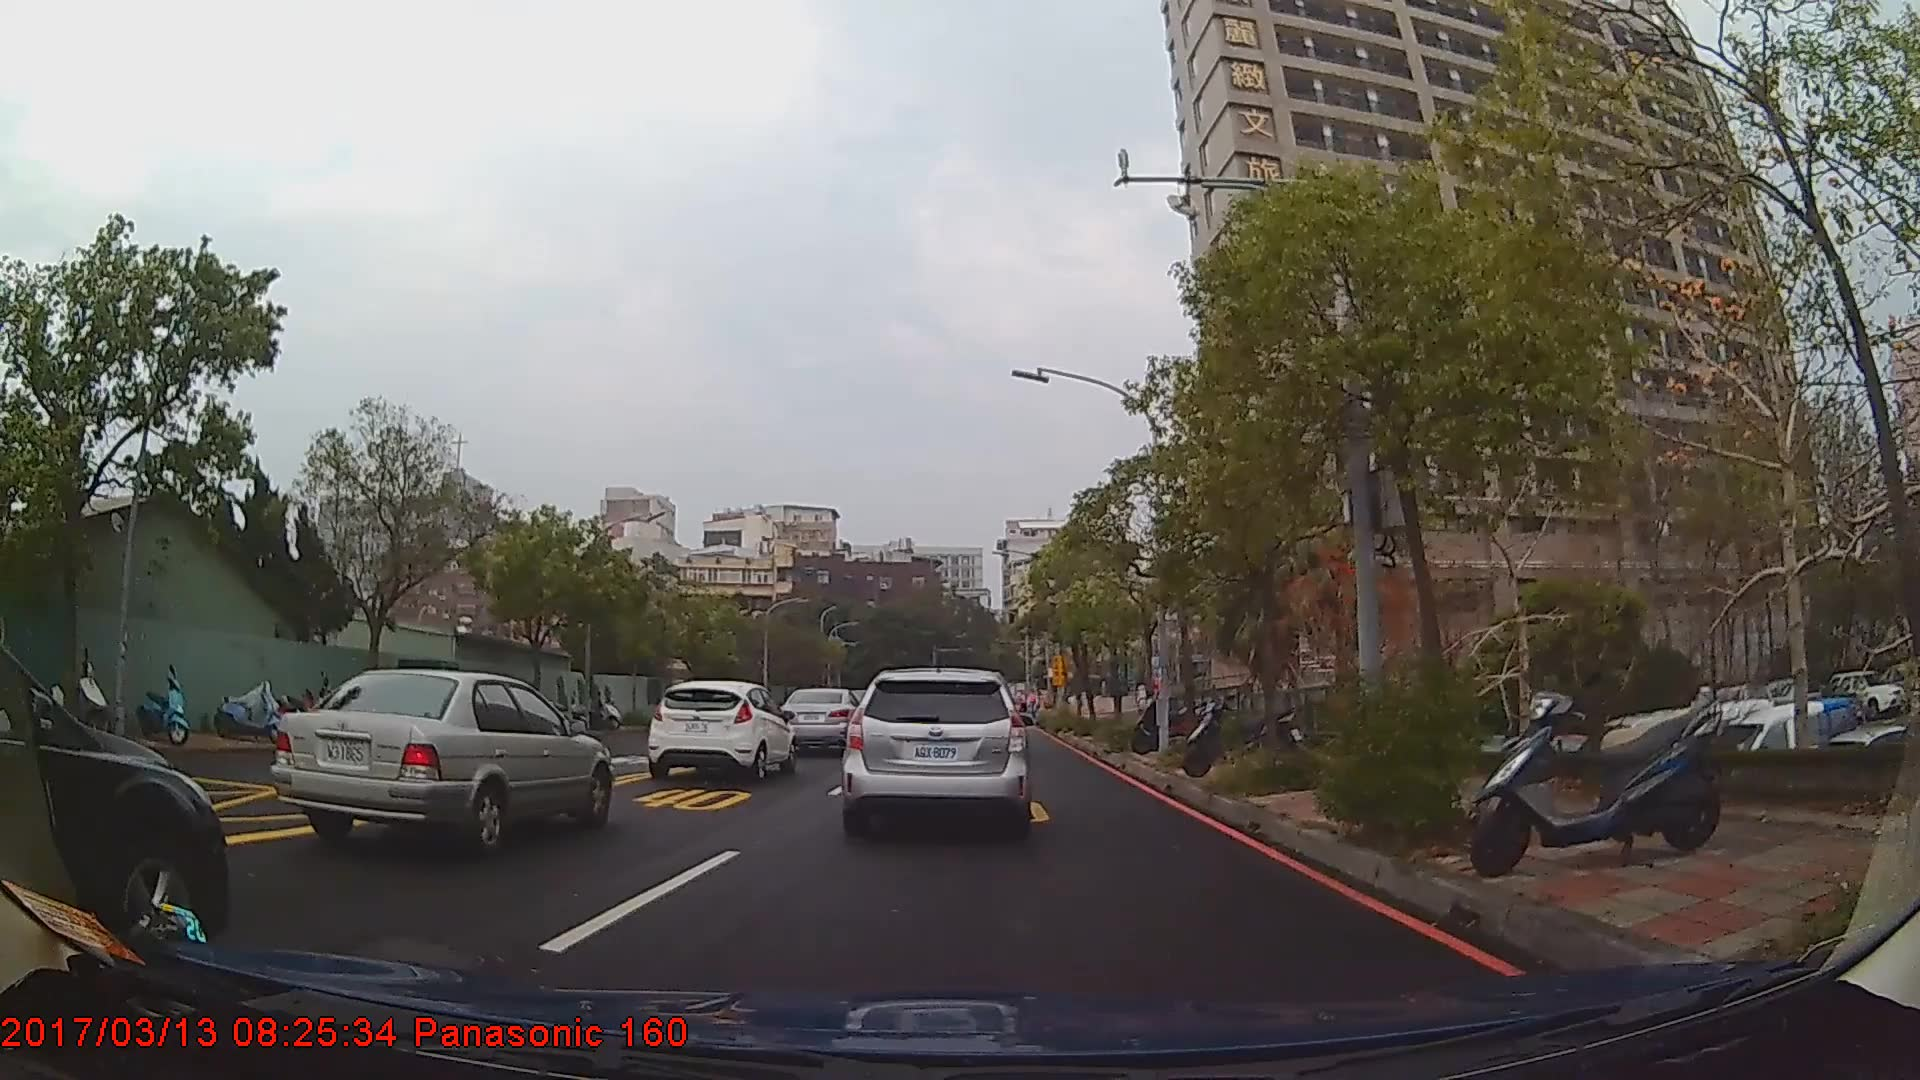vehicle: (0, 638, 227, 960), (266, 669, 615, 855), (837, 669, 1026, 828), (644, 680, 796, 779), (777, 686, 862, 752)
